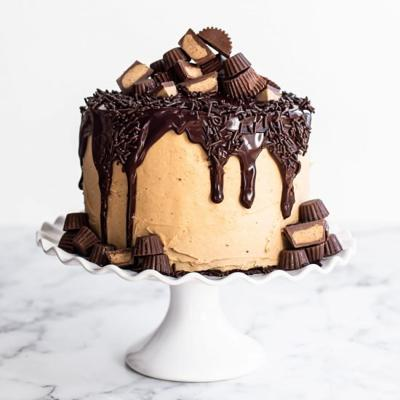cake: (71, 64, 319, 270)
